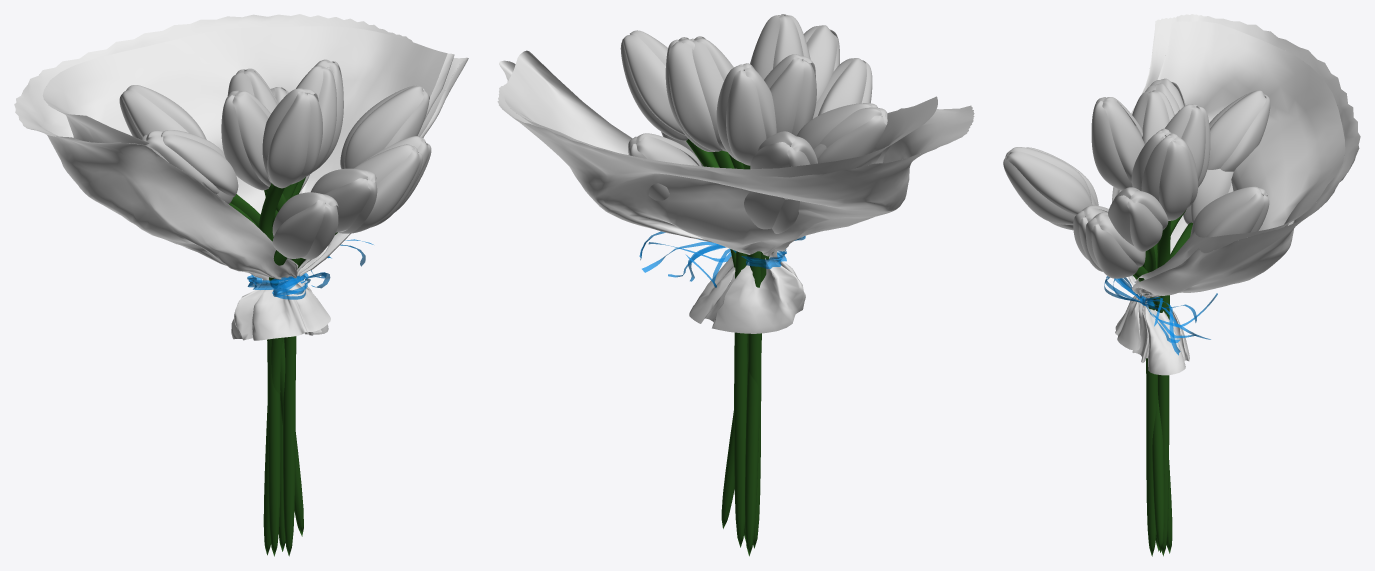
Rendered from RamoLirios.fbx.
3 views of the same model, side by side, from view 1: azimuth 30°, elevation 25°; view 2: azimuth 150°, elevation 25°; view 3: azimuth 270°, elevation 25° (orthographic). The views are drawn at different scales.
Parts seen in each view (by area): view 1: inner, outer, Talo5, Tallo3, Tallo1, Tallo2, Tallo4, ribbon; view 2: outer, Tallo2, inner, Tallo3, Tallo4, Talo5, Tallo1, ribbon; view 3: inner, outer, Tallo2, Talo5, Tallo4, Tallo3, Tallo1, ribbon.
Boxes of the visible parts, <box> form: inner: <box>42,26,454,271</box>; outer: <box>14,14,468,340</box>; Talo5: <box>119,85,338,536</box>; Tallo3: <box>221,85,429,556</box>; Tallo1: <box>141,65,422,556</box>; Tallo2: <box>227,68,377,555</box>; Tallo4: <box>161,59,431,551</box>; ribbon: <box>270,239,373,299</box>; outer: <box>497,60,974,333</box>; Tallo2: <box>628,25,839,556</box>; inner: <box>504,50,937,177</box>; Tallo3: <box>620,30,816,542</box>; Tallo4: <box>661,37,877,547</box>; Talo5: <box>721,14,872,528</box>; Tallo1: <box>690,36,887,548</box>; ribbon: <box>639,231,805,287</box>; inner: <box>1119,21,1345,283</box>; outer: <box>1112,14,1360,375</box>; Tallo2: <box>1003,104,1269,553</box>; Talo5: <box>1026,90,1270,552</box>; Tallo4: <box>1085,83,1198,556</box>; Tallo3: <box>1108,90,1233,556</box>; Tallo1: <box>1073,78,1185,551</box>; ribbon: <box>1104,276,1217,355</box>.
Size of the model in its own units: 629 by 665 by 472.
